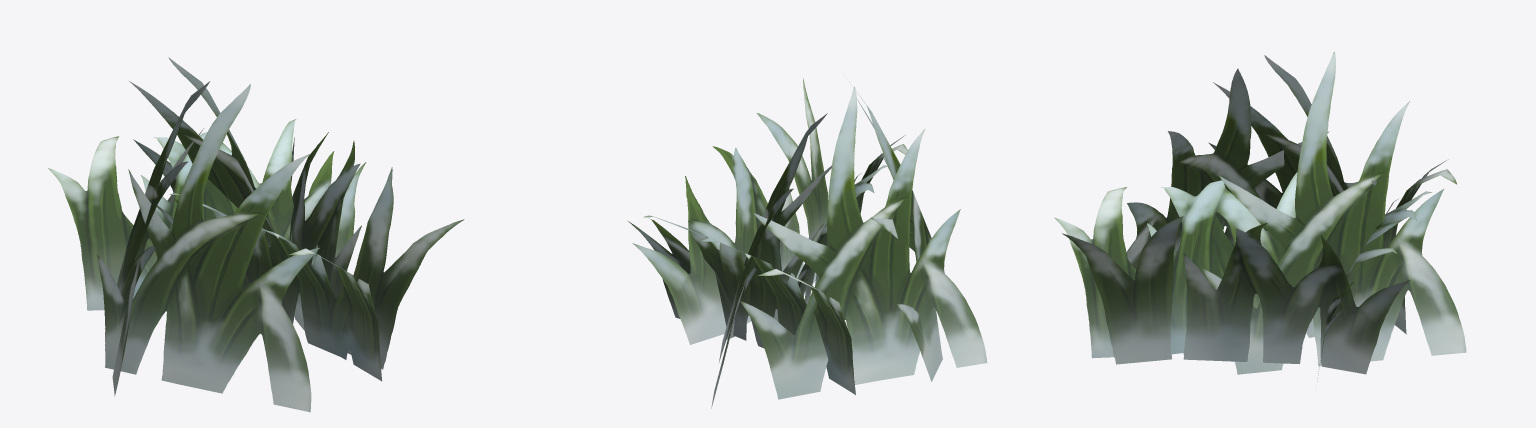
File: Grass_1_snow.FBX
3 renders of one model, left to right at view 1: azimuth 30°, elevation 25°; view 2: azimuth 150°, elevation 25°; view 3: azimuth 270°, elevation 25°, orthographic. The views are drawn at different scales.
Visible parts, largest first — view 1: Grass_1_snow; view 2: Grass_1_snow; view 3: Grass_1_snow.
Boxes of the visible parts, left/top/right/bottom form: Grass_1_snow: left=48, top=57, right=464, bottom=412; Grass_1_snow: left=628, top=77, right=987, bottom=408; Grass_1_snow: left=1054, top=52, right=1466, bottom=377.
Size of what is drawn, in the model's own units: 82.94 by 102 by 68.42.
